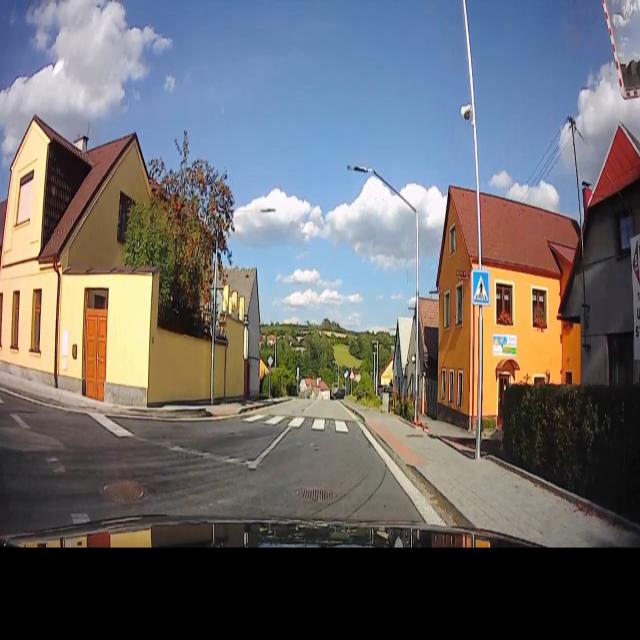Pedestrian crosswalk: (244, 409, 358, 438), (471, 268, 491, 306)
